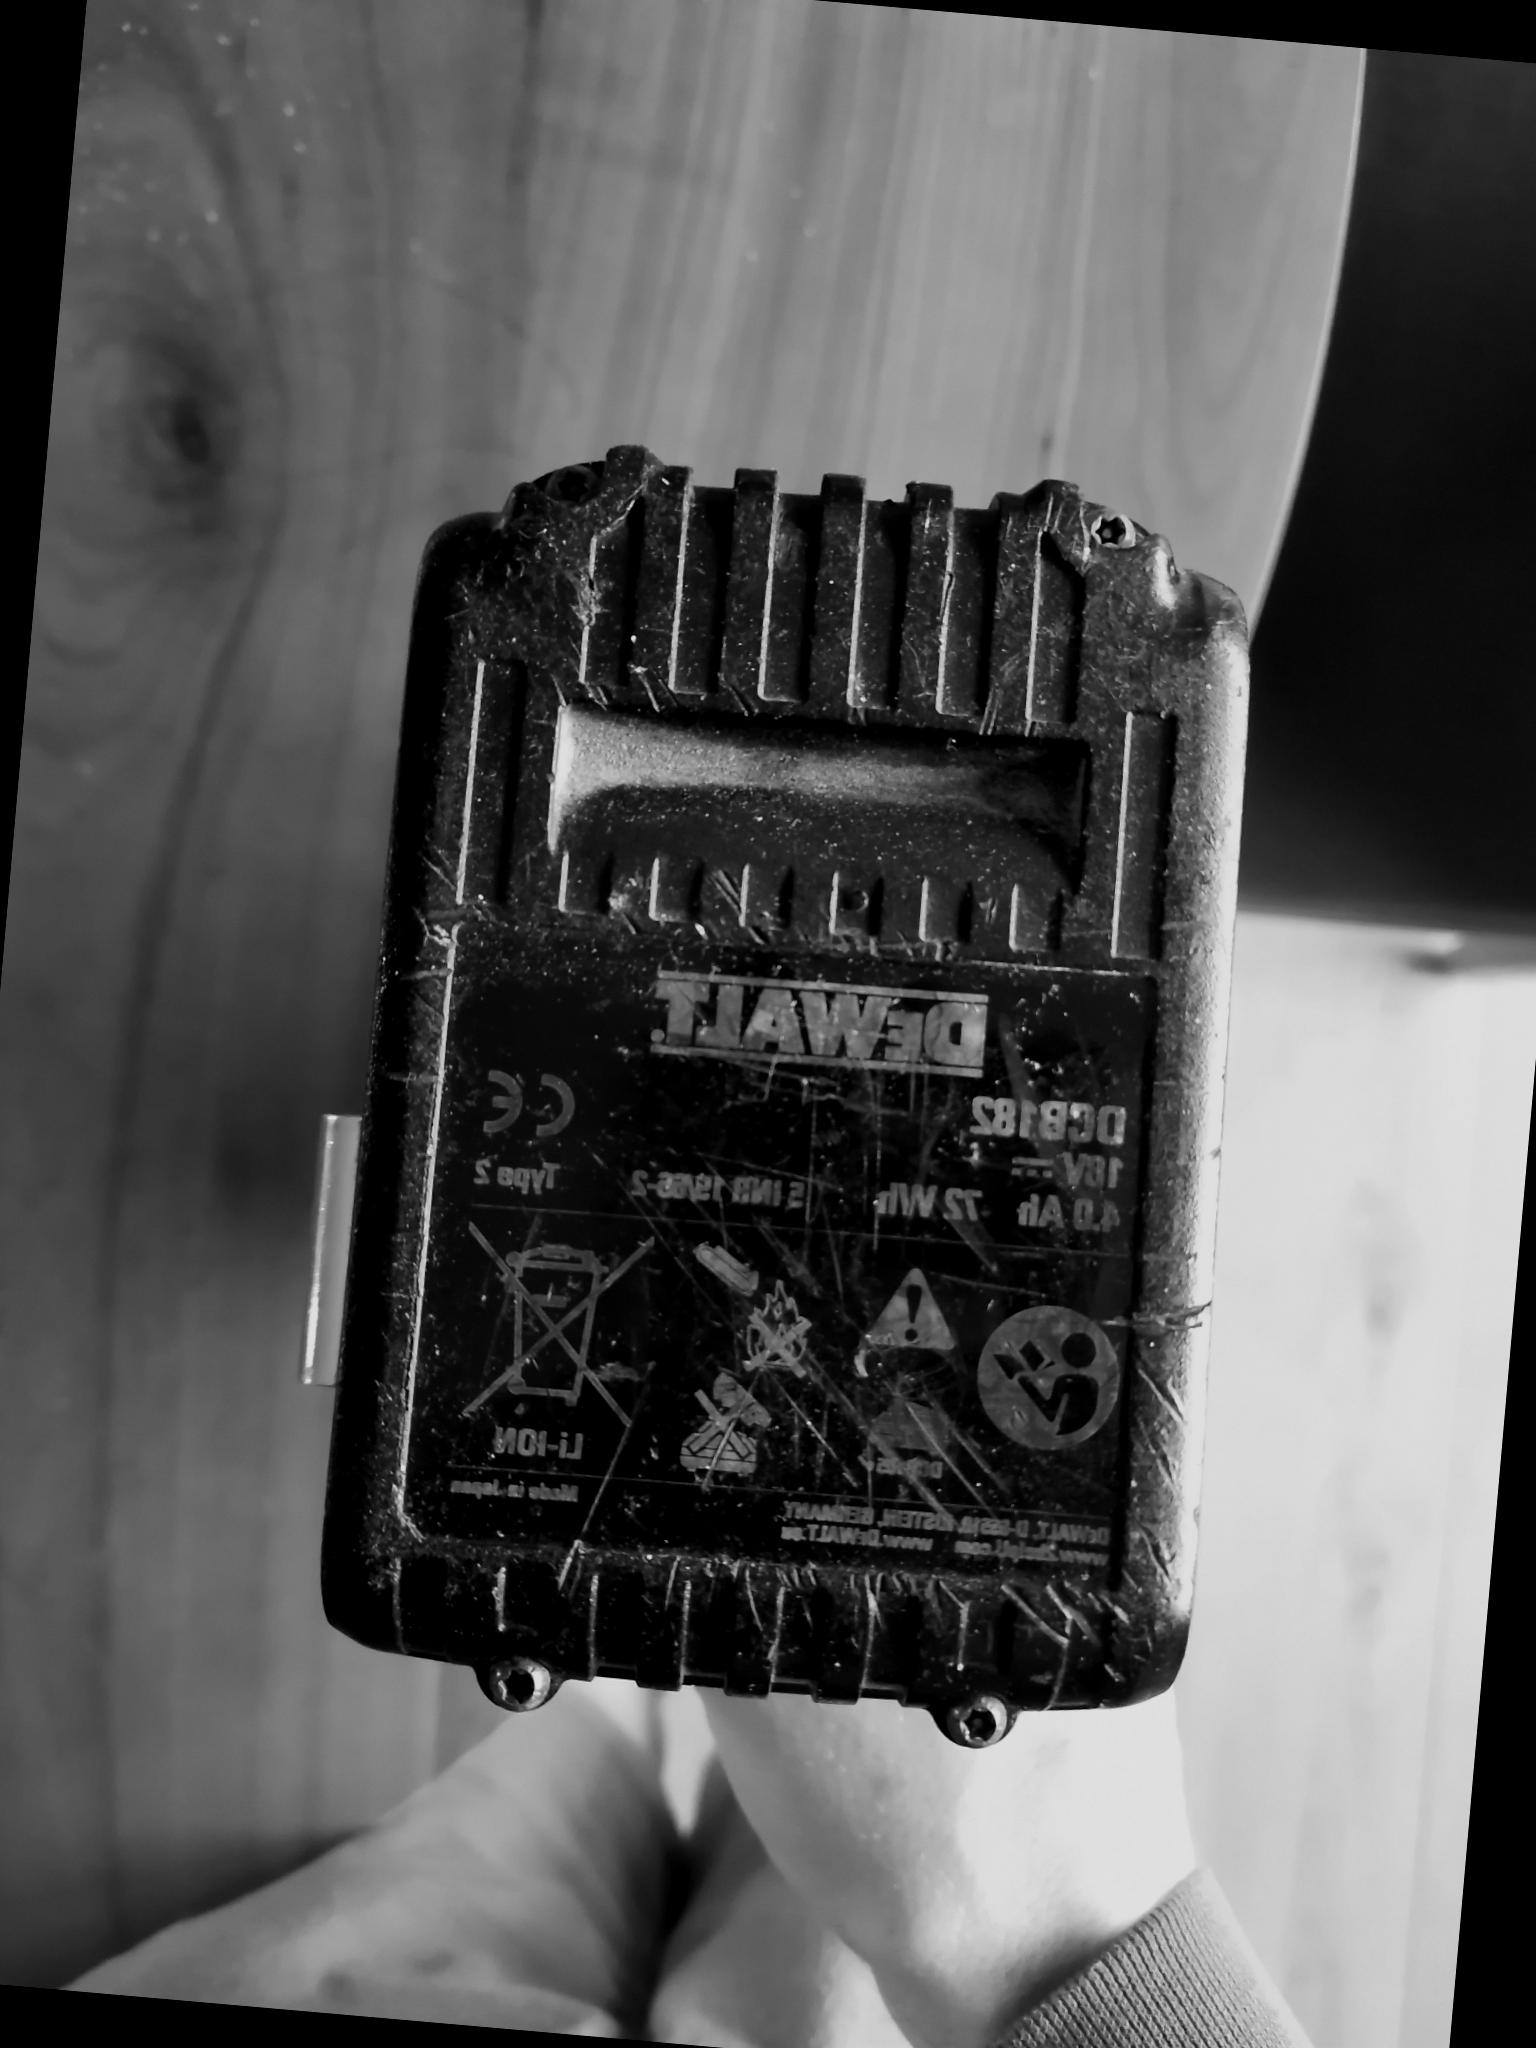screw: (481, 1643, 558, 1716), (944, 1684, 1021, 1755), (1076, 498, 1147, 563)
